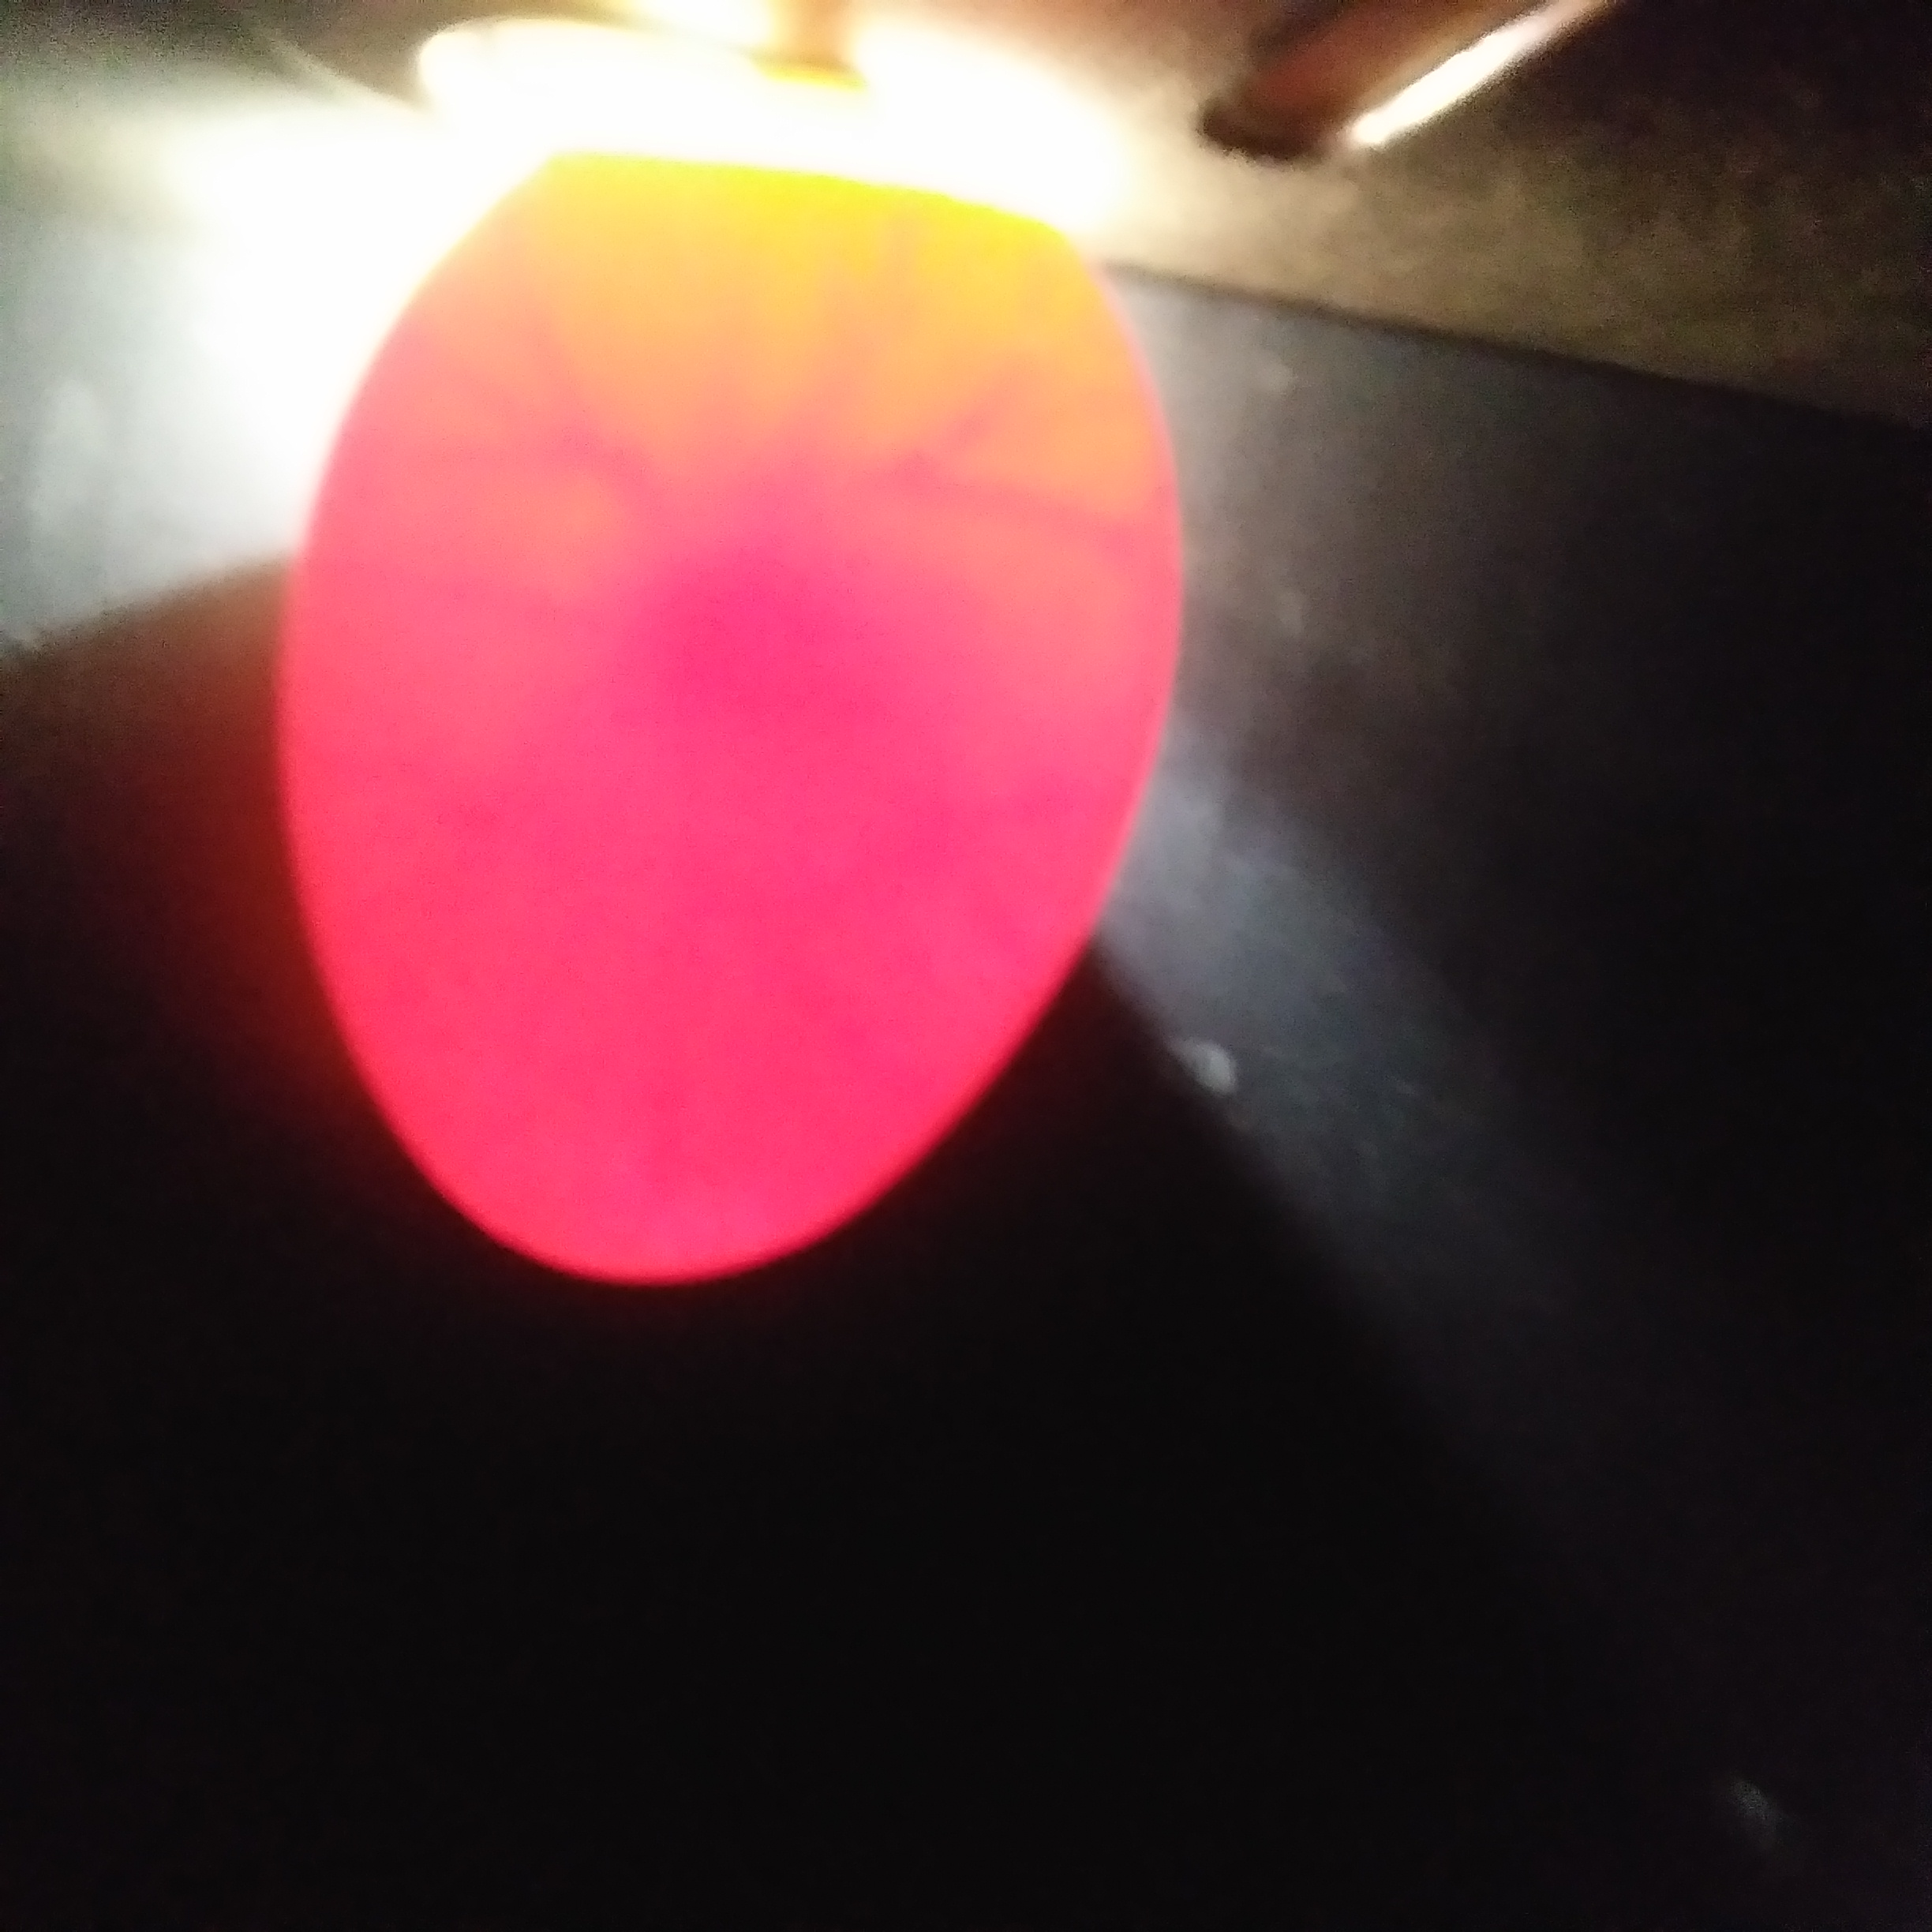bloodcell: (812, 239, 1095, 494)
embryo: (676, 515, 835, 695)
